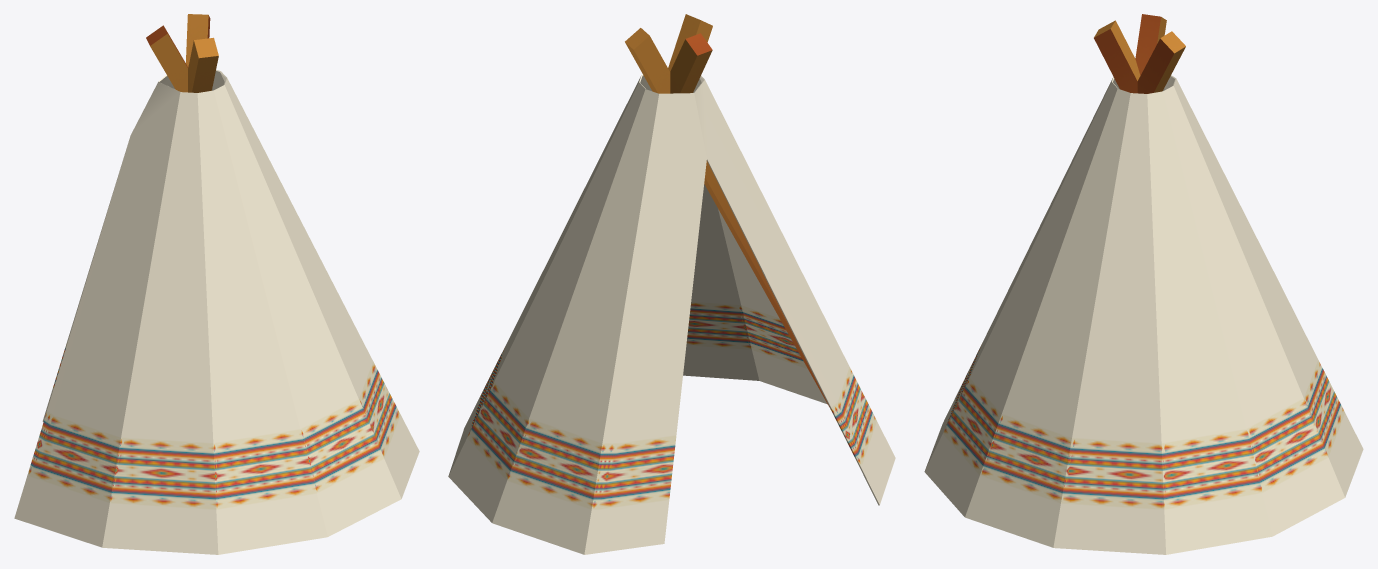
File: Tent.fbx
3 views of the same model, side by side, from view 1: azimuth 30°, elevation 25°; view 2: azimuth 150°, elevation 25°; view 3: azimuth 270°, elevation 25° (orthographic).
Parts seen in each view (by area): view 1: Tent; view 2: Tent; view 3: Tent.
Part boxes in pixels (<box>): Tent: <box>14,14,419,554</box>; Tent: <box>448,14,895,554</box>; Tent: <box>924,14,1363,554</box>.
Bounding box in the file's own units: 5.27 × 5.67 × 5.2.
1 material, 1 textured.
